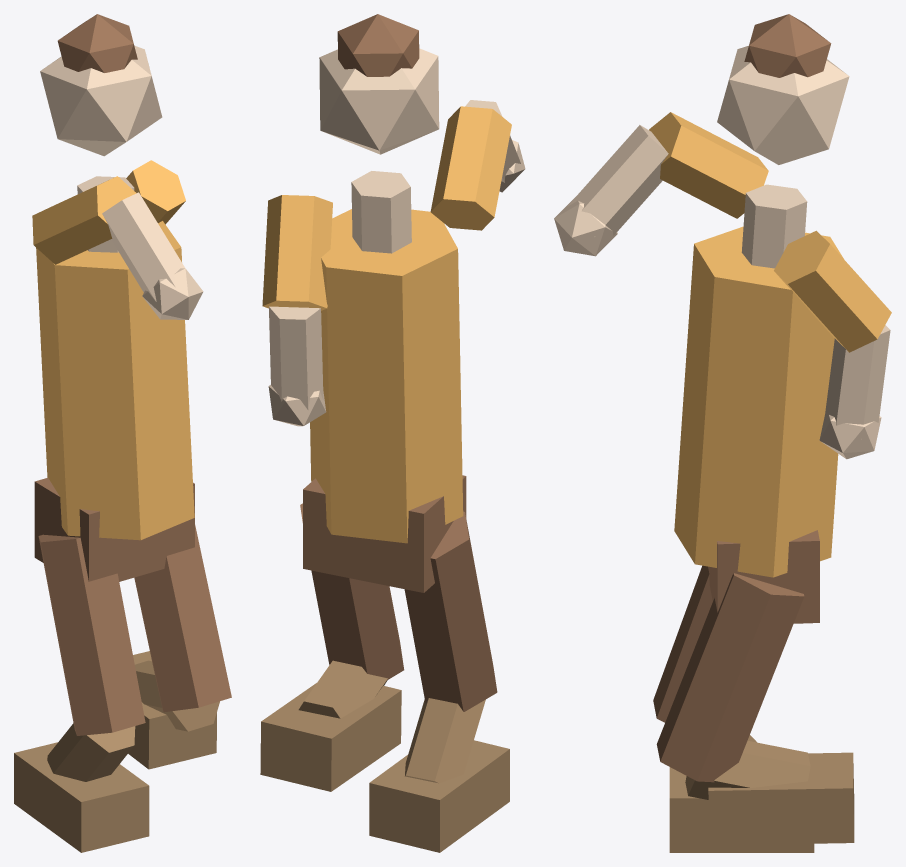
File: pose_attack_1_05.glb
3 views of the same model, side by side, from view 1: azimuth 30°, elevation 25°; view 2: azimuth 150°, elevation 25°; view 3: azimuth 270°, elevation 25° (orthographic). The views are drawn at different scales.
Visible parts, largest first — view 1: pose; view 2: pose; view 3: pose.
Boxes of the visible parts, box(x1,y1,x2,y2) form: pose: box(14, 14, 231, 852); pose: box(260, 14, 525, 852); pose: box(554, 14, 891, 852).
Size of the model in its own units: 0.373 by 1.54 by 0.5598.
